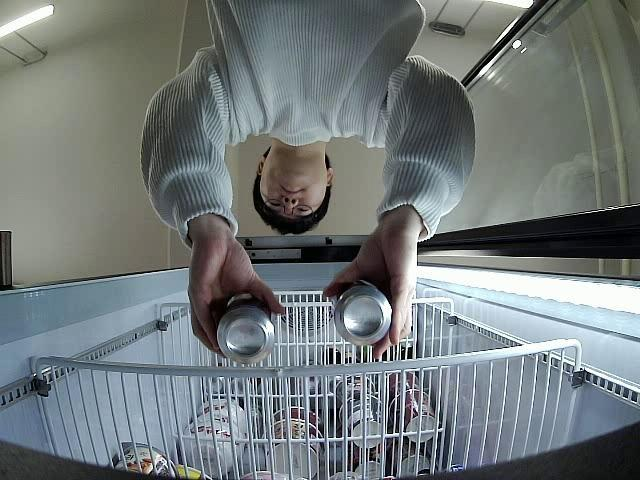14_welchsGrape: (330, 274, 390, 346), (215, 292, 276, 362)
